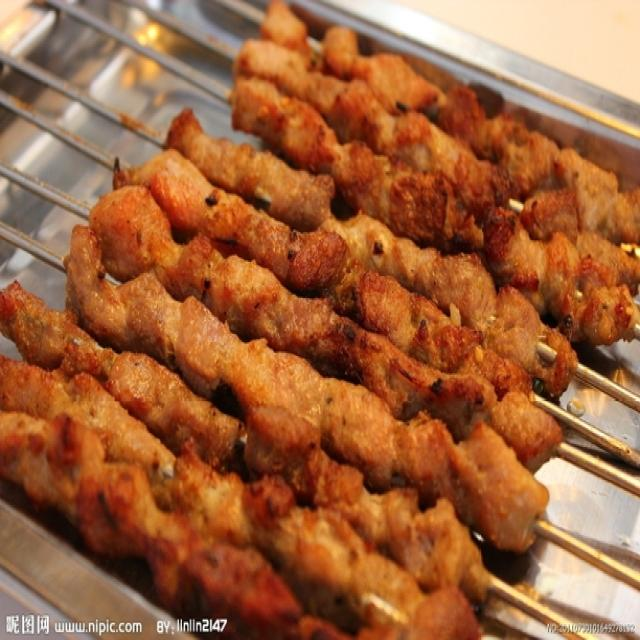烧串烤肉: (14, 13, 623, 618)
